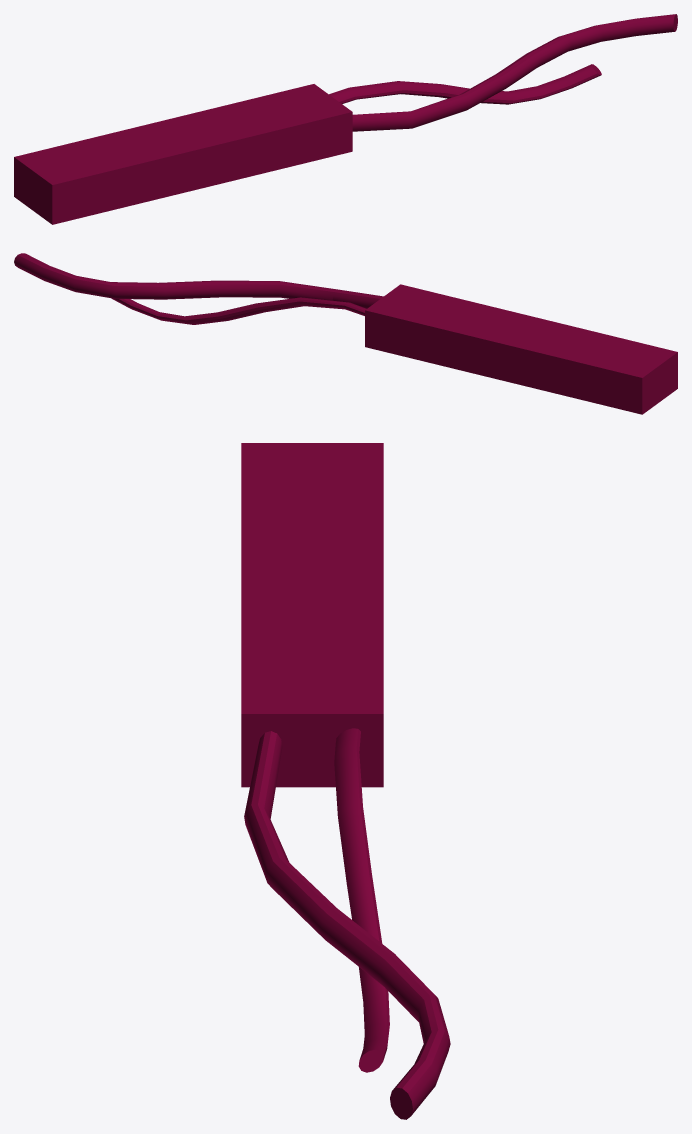
Rendered from SM_wire.fbx.
The picture shows the model from 3 angles, top to bottom: view 1: azimuth 30°, elevation 25°; view 2: azimuth 150°, elevation 25°; view 3: azimuth 270°, elevation 25°; orthographic projection. The views are drawn at different scales.
Parts seen in each view (by area): view 1: pCylinder21; view 2: pCylinder21; view 3: pCylinder21.
Boxes of the visible parts, x1,y1,x2,y2 form: pCylinder21: (14,14,677,224); pCylinder21: (14,253,677,414); pCylinder21: (241,443,450,1119).
Bounding box in the file's own units: 0.5151 × 0.049 × 0.0752.
